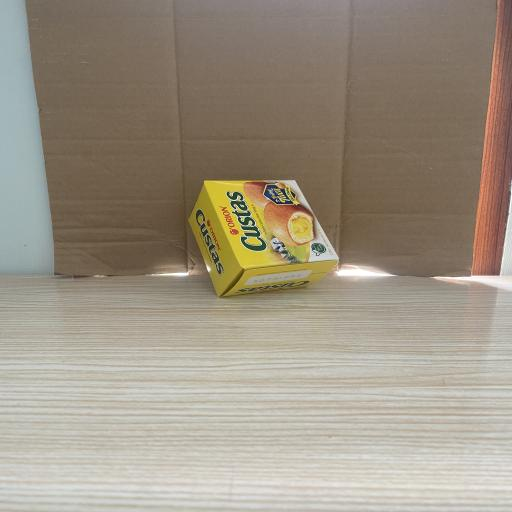custas: (188, 180, 339, 298)
